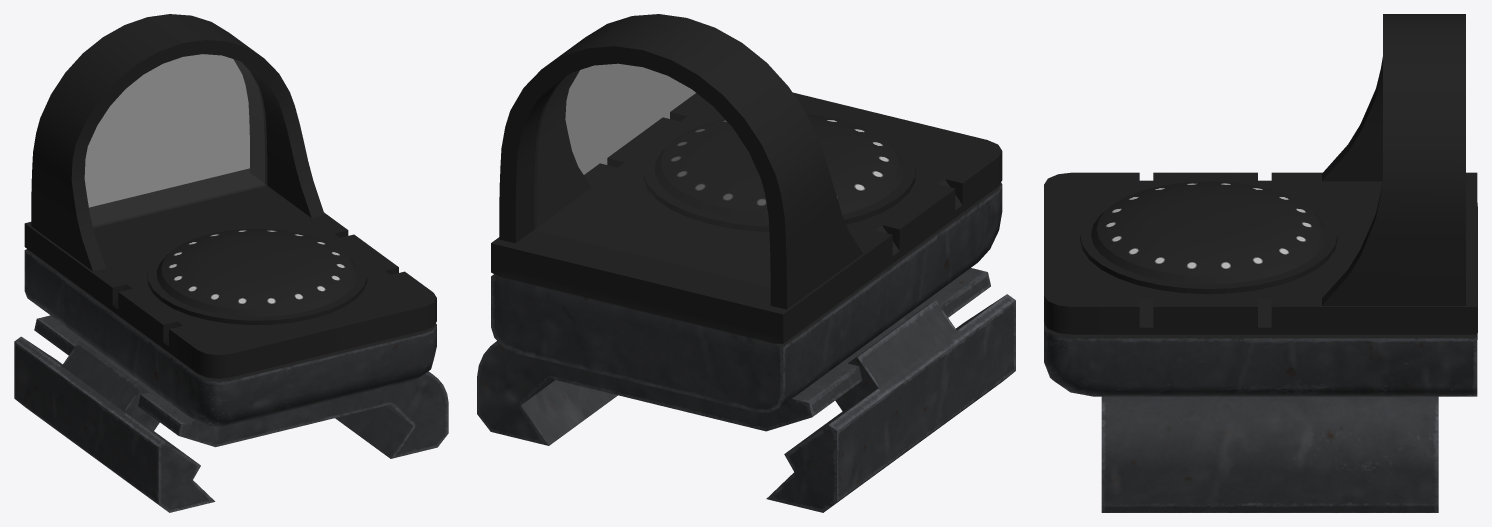
Rendered from sight.glb.
3 views of the same model, side by side, from view 1: azimuth 30°, elevation 25°; view 2: azimuth 150°, elevation 25°; view 3: azimuth 270°, elevation 25° (orthographic). The views are drawn at different scales.
Parts seen in each view (by area): view 1: Sight 1, Sight 1 Lens; view 2: Sight 1, Sight 1 Lens; view 3: Sight 1.
Boxes of the visible parts, left/top/right/bottom form: Sight 1: left=14, top=14, right=448, bottom=512; Sight 1 Lens: left=84, top=54, right=266, bottom=227; Sight 1: left=477, top=14, right=1015, bottom=512; Sight 1 Lens: left=534, top=63, right=770, bottom=286; Sight 1: left=1044, top=14, right=1477, bottom=512.
Bounding box in the file's own units: 0.3739 × 0.4299 × 0.4144.
2 materials, 1 textured.
